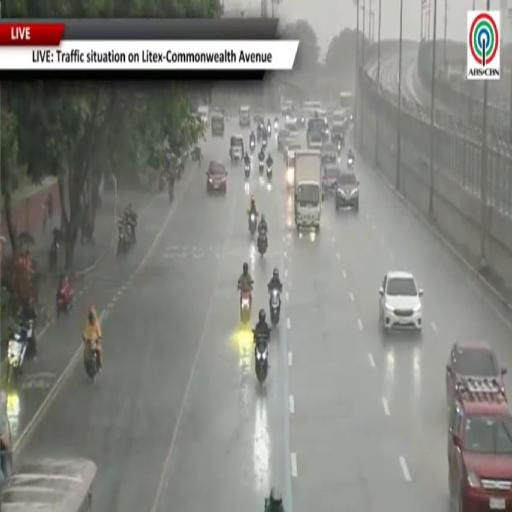bus: (2, 458, 97, 511), (303, 101, 321, 115), (340, 91, 353, 109)
car: (448, 378, 511, 511), (446, 342, 506, 407), (379, 271, 423, 332), (335, 170, 359, 212), (206, 160, 227, 194), (322, 164, 341, 198), (230, 135, 244, 162), (321, 142, 337, 164), (285, 150, 294, 188), (211, 112, 224, 137), (331, 123, 345, 145), (307, 131, 323, 149), (277, 130, 289, 150), (284, 119, 297, 136), (198, 106, 209, 126), (281, 100, 294, 116), (240, 106, 250, 126), (295, 111, 306, 129), (333, 110, 346, 124), (254, 112, 264, 125)
motorcycle: (6, 320, 34, 383), (254, 331, 268, 385), (57, 281, 73, 317), (84, 341, 98, 381), (117, 223, 131, 255), (270, 288, 281, 327), (48, 239, 60, 273), (240, 291, 251, 324), (258, 230, 267, 257), (248, 212, 257, 236), (177, 158, 184, 180), (159, 174, 165, 191), (244, 164, 250, 178), (337, 140, 342, 156), (168, 187, 173, 202), (267, 166, 272, 181), (259, 160, 264, 174), (250, 139, 255, 152), (348, 157, 353, 169), (267, 124, 272, 136), (257, 127, 261, 141), (274, 121, 279, 132), (262, 138, 267, 149)
truck: (294, 150, 322, 231)
